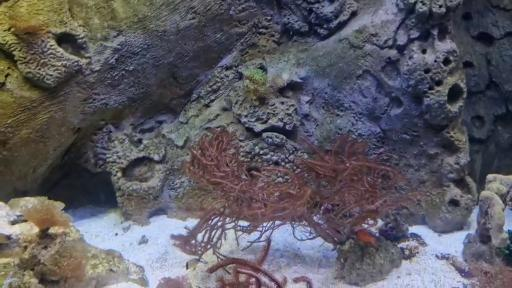Fish: (355, 229, 378, 247), (186, 259, 201, 269)
